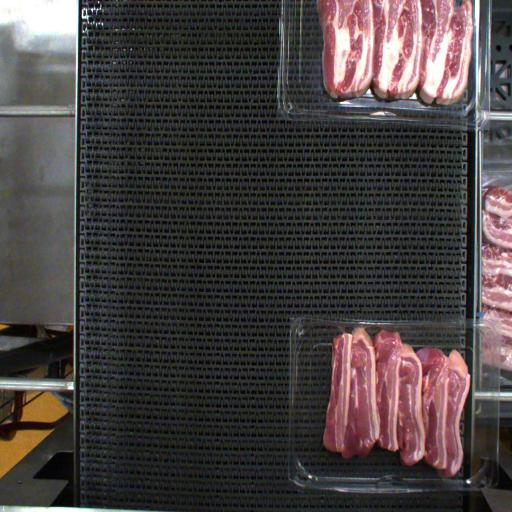packaging-error: (336, 323, 348, 339)
